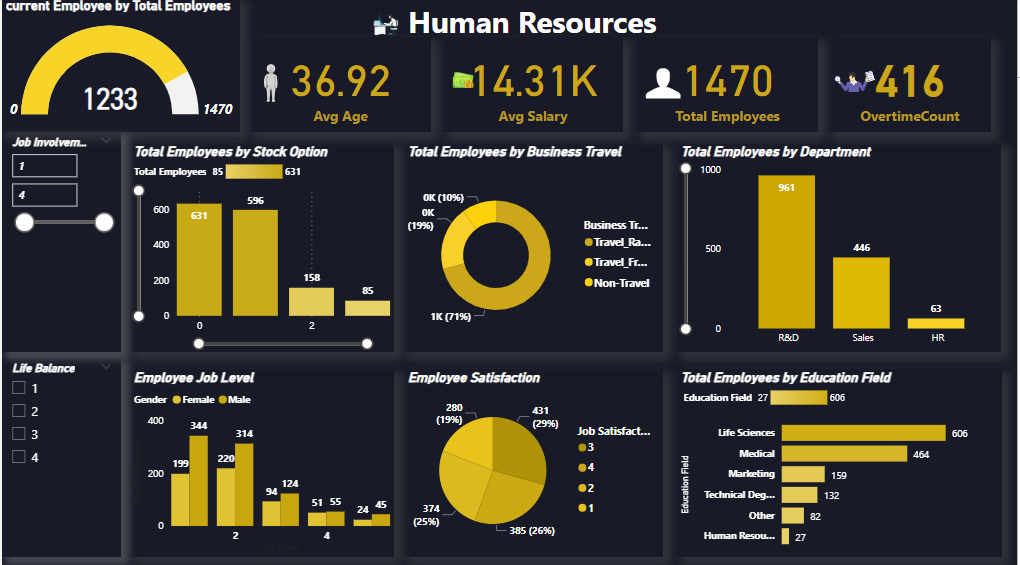

This screenshot's page, from the dashboard's own definition file:
{"tool":"powerbi","page":{"name":"Page 1","canvas":[1280,720],"ordinal":0},"visuals":[{"type":"textbox","box":[507,0,377.1,60.5],"z":0},{"type":"card","fields":{"Values":["DAX Measures.OvertimeCount"]},"box":[1042.9,50.4,204.3,119.8],"z":1000},{"type":"card","fields":{"Values":["DAX Measures.Tota Employees"]},"box":[800.8,50.4,228.3,119.8],"z":2000},{"type":"card","fields":{"Values":["DAX Measures.Avg Salary"]},"box":[556.1,50.4,227,119.8],"z":3000},{"type":"pieChart","title":"Employee Satisfaction","fields":{"Y":["DAX Measures.Total Employees"],"Category":["Job Satisfaction.Job Satisfaction"]},"box":[507,469.1,326.6,237.1],"z":4000},{"type":"card","fields":{"Values":["DAX Measures.Avg Age"]},"box":[312.7,50.4,228.3,119.8],"z":5000},{"type":"gauge","title":"current Employee by Total Employees","fields":{"MaxValue":["DAX Measures.Total Employees"],"Y":["Sum(Employee.CF_current Employee)"]},"box":[0,0,300.1,170.2],"z":6000},{"type":"columnChart","fields":{"Category":["Job Satisfaction.Department"],"Y":["DAX Measures.Total Employees"]},"box":[851.2,184.1,408.6,263.6],"z":7000},{"type":"donutChart","fields":{"Y":["DAX Measures.Total Employees"],"Category":["Employee.Business Travel"]},"box":[507,184.1,326.6,263.6],"z":8000},{"type":"barChart","fields":{"Category":["Employee.Education Field"],"Y":["DAX Measures.Total Employees"]},"box":[851.2,469.1,409.9,237.1],"z":9000},{"type":"columnChart","title":"Total Employees by Stock Option ","fields":{"Y":["DAX Measures.Total Employees"],"Category":["Fact Table.Stock Option Level"]},"box":[161.4,184.1,332.9,263.6],"z":10000},{"type":"clusteredColumnChart","title":"Employee Job Level","fields":{"Category":["Job Satisfaction.Job Level"],"Y":["DAX Measures.Total Employees"],"Series":["Employee.Gender"]},"box":[161.4,469.1,332.9,237.1],"z":11000},{"type":"image","box":[273.7,74.4,129.9,69.4],"z":12000},{"type":"image","box":[805.8,82,55.5,54.2],"z":13000},{"type":"image","box":[556.1,85.8,50.4,36.6],"z":14000},{"type":"image","box":[384.6,0,196.7,60.5],"z":15000},{"type":"image","box":[1042.9,56.7,64.3,95.8],"z":16000},{"type":"slicer","fields":{"Values":["Job Satisfaction.Job Involvement"]},"box":[0,170.2,150.1,277.4],"z":16001},{"type":"slicer","fields":{"Values":["Job Satisfaction.Work Life Balance"]},"box":[0,455.3,150.1,251],"z":16002}]}

Visuals, with their boxes in screenshot pixels (x1, y1, x2, y2), scaled from the page's 1280x720 canvas onto the 1020x565 screenshot:
textbox: x1=404, y1=0, x2=705, y2=47
card - DAX Measures.OvertimeCount: x1=831, y1=40, x2=994, y2=134
card - DAX Measures.Tota Employees: x1=638, y1=40, x2=820, y2=134
card - DAX Measures.Avg Salary: x1=443, y1=40, x2=624, y2=134
"Employee Satisfaction" pieChart: x1=404, y1=368, x2=664, y2=554
card - DAX Measures.Avg Age: x1=249, y1=40, x2=431, y2=134
"current Employee by Total Employees" gauge: x1=0, y1=0, x2=239, y2=134
columnChart - Job Satisfaction.Department x DAX Measures.Total Employees: x1=678, y1=144, x2=1004, y2=351
donutChart - DAX Measures.Total Employees x Employee.Business Travel: x1=404, y1=144, x2=664, y2=351
barChart - Employee.Education Field x DAX Measures.Total Employees: x1=678, y1=368, x2=1005, y2=554
"Total Employees by Stock Option " columnChart: x1=129, y1=144, x2=394, y2=351
"Employee Job Level" clusteredColumnChart: x1=129, y1=368, x2=394, y2=554
image: x1=218, y1=58, x2=322, y2=113
image: x1=642, y1=64, x2=686, y2=107
image: x1=443, y1=67, x2=483, y2=96
image: x1=306, y1=0, x2=463, y2=47
image: x1=831, y1=44, x2=882, y2=120
slicer - Job Satisfaction.Job Involvement: x1=0, y1=134, x2=120, y2=351
slicer - Job Satisfaction.Work Life Balance: x1=0, y1=357, x2=120, y2=554
